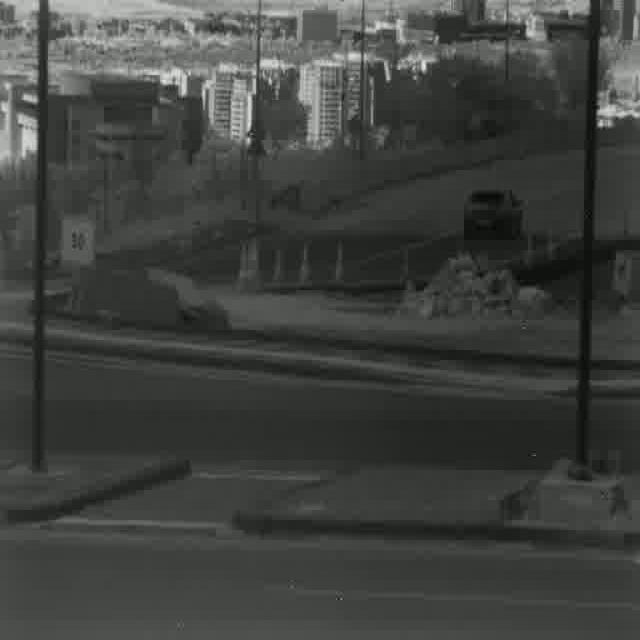Car: (463, 189, 528, 240)
